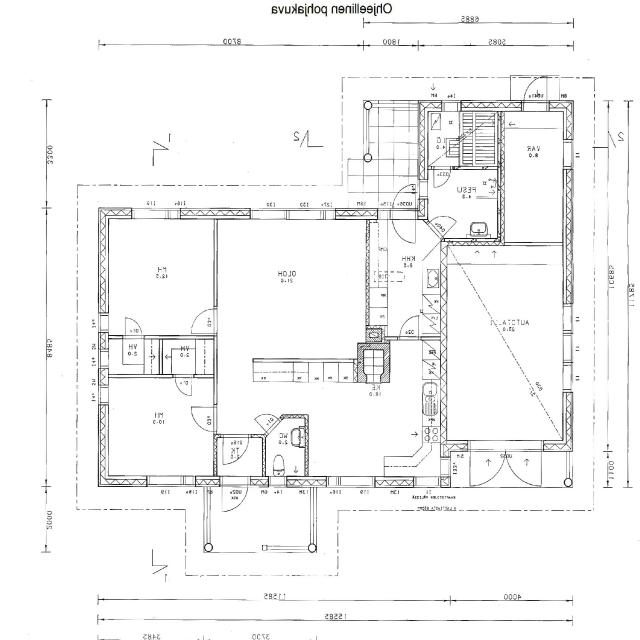door: (505, 440, 541, 490), (470, 440, 505, 490), (222, 476, 248, 515), (428, 208, 457, 239), (524, 75, 548, 112), (392, 183, 416, 219), (392, 208, 416, 244), (223, 434, 249, 465), (254, 406, 281, 435), (191, 407, 217, 431), (192, 309, 217, 333), (400, 316, 419, 340), (175, 374, 192, 396), (125, 317, 142, 339), (435, 166, 451, 187)
